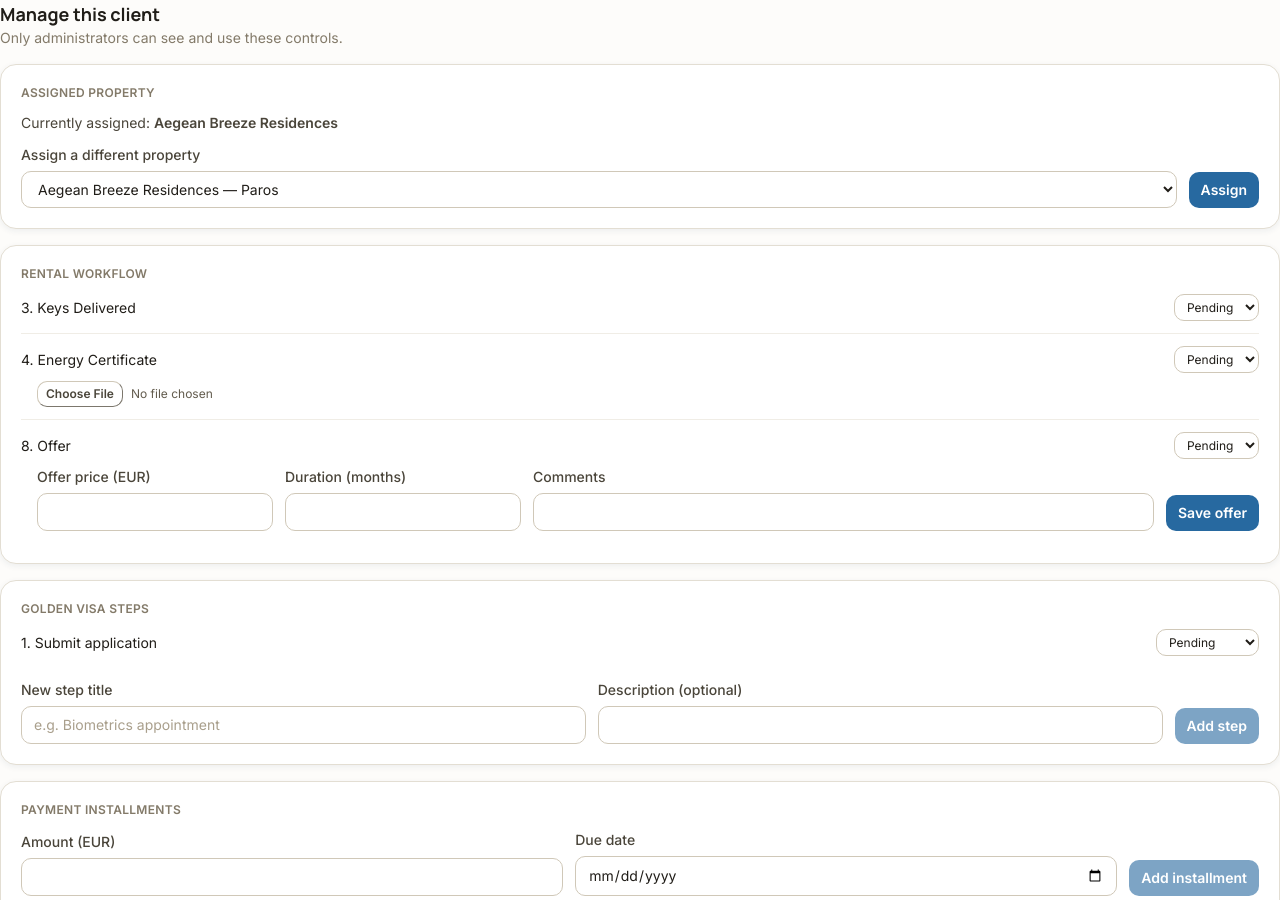
Scenario: ClientAdminPanel — payment installments › falls back to a generic message when an action rejects with a non-Error value
Type "5" into the number field labelled "Amount (EUR)".
click(292, 877); type("5")  # box [21,858,563,896]
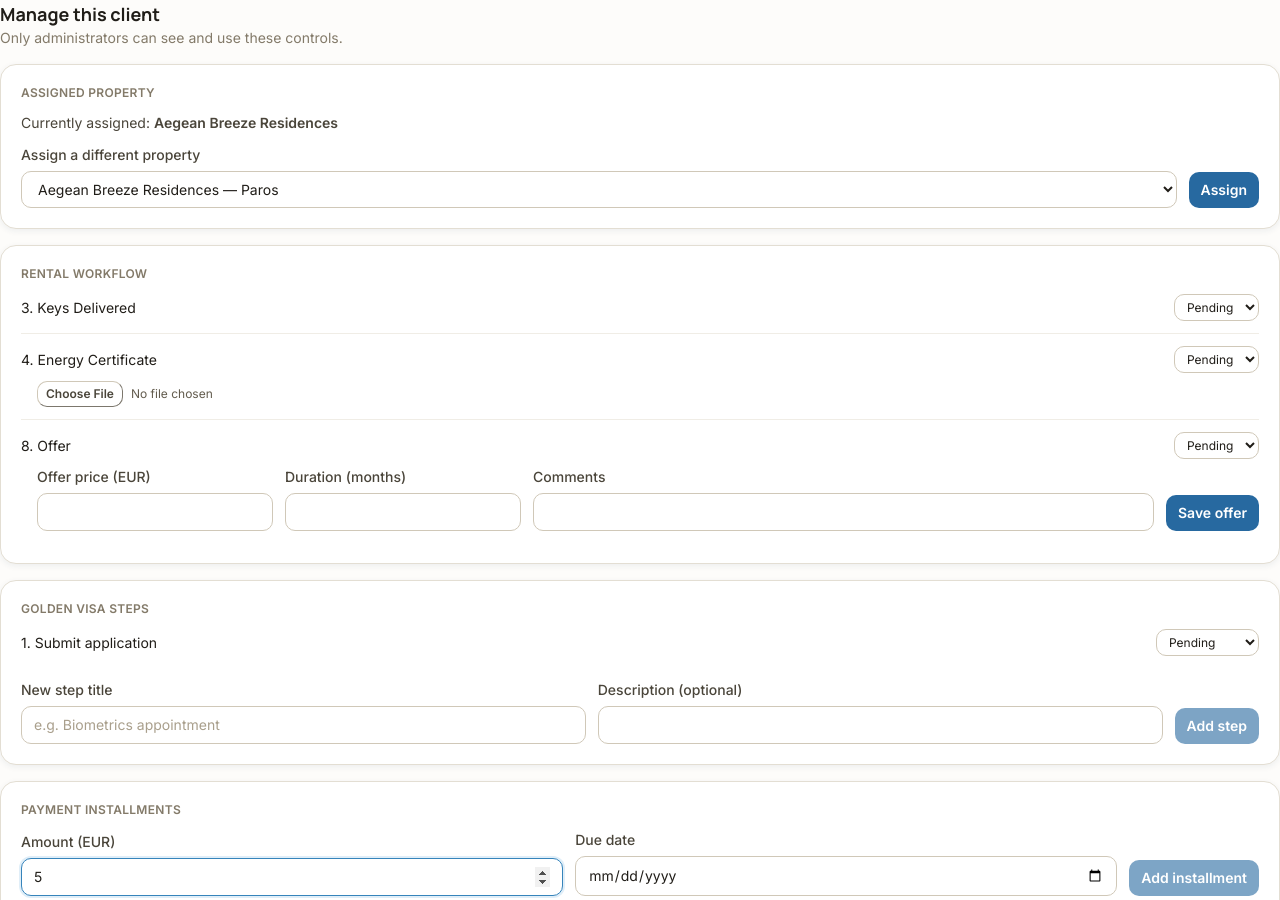
Type "2026-09-01" into the date field labelled "Due date".
click(846, 876); type("2026-09-01")  # box [575,856,1117,896]
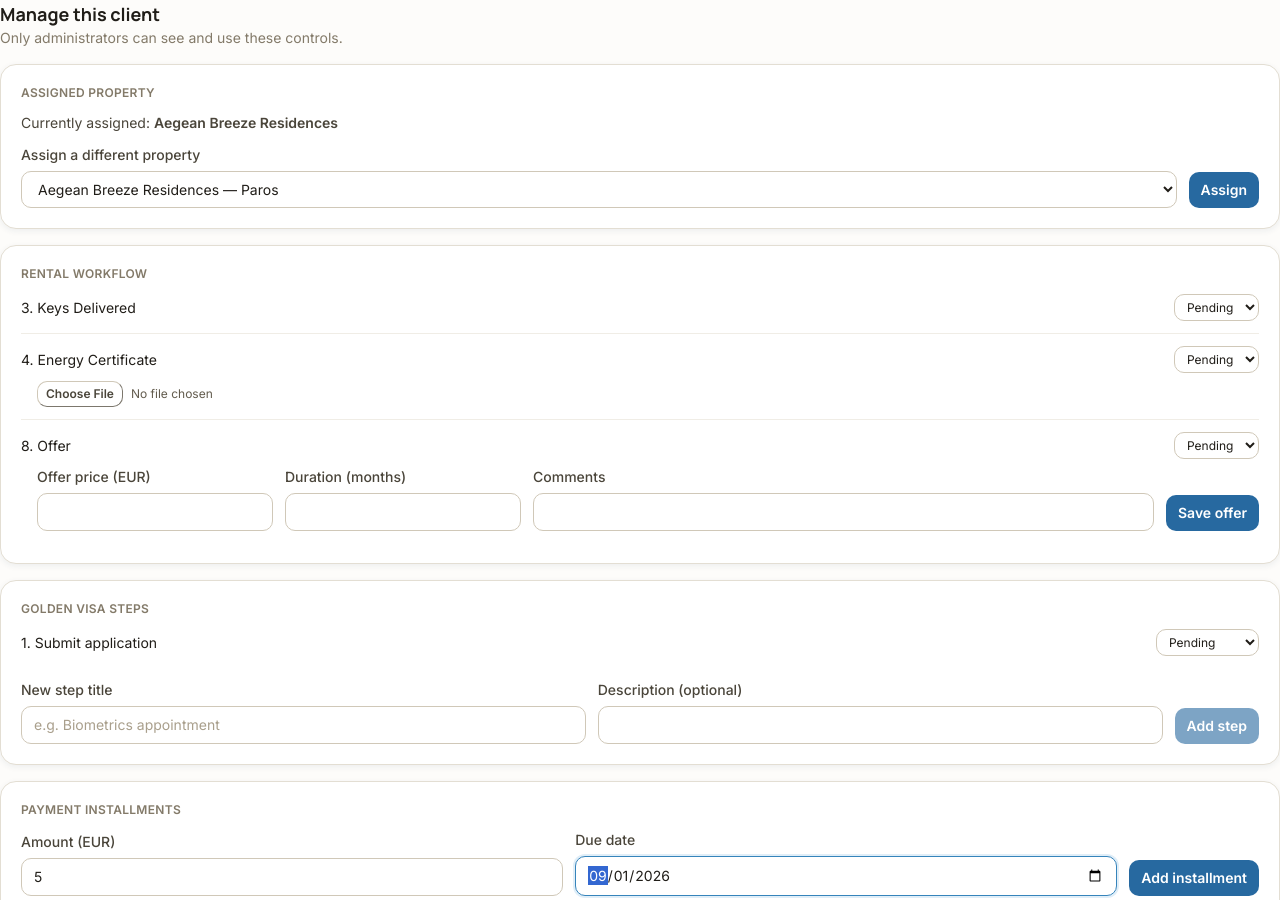
Click the button "Add installment".
click(1194, 878)  # box [1129,860,1259,896]
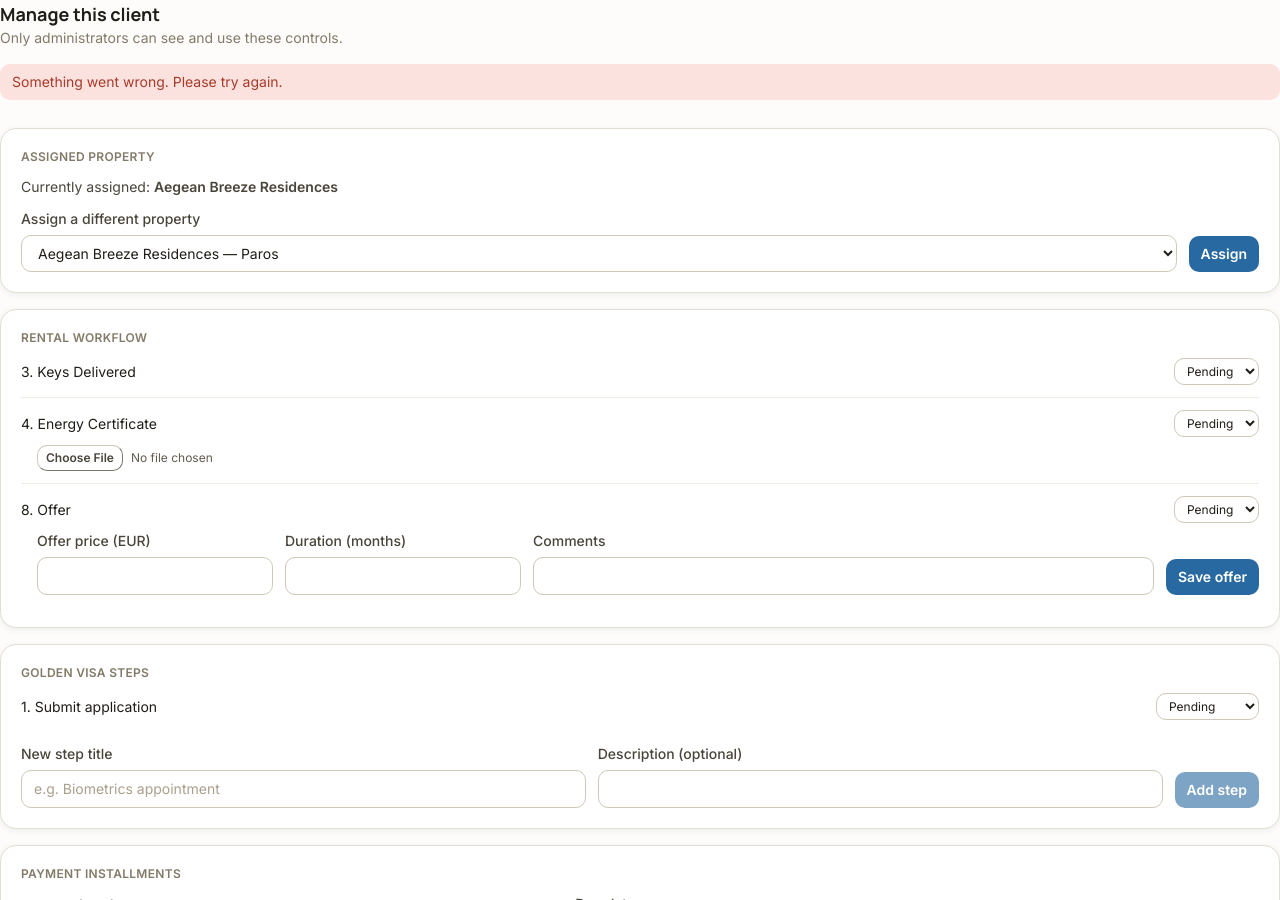
expect the message reads "Something went wrong. Please try again.": met, box [12,73,283,90]
